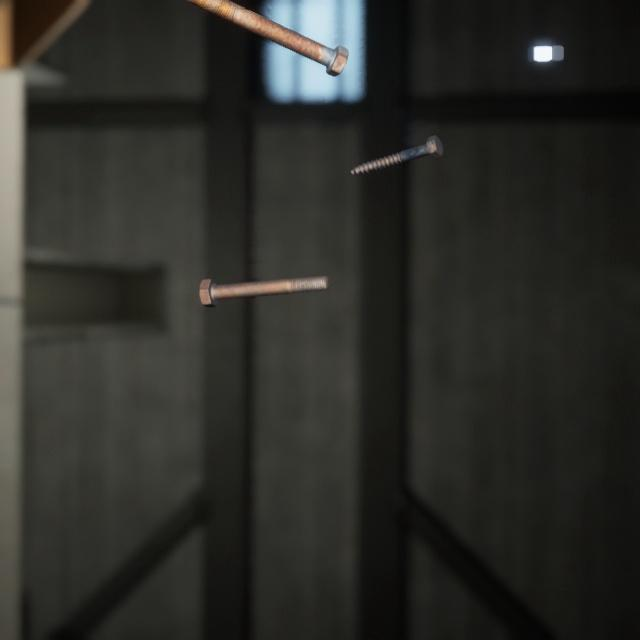bolt: (199, 0, 353, 72), (194, 253, 334, 294), (346, 117, 447, 166)
